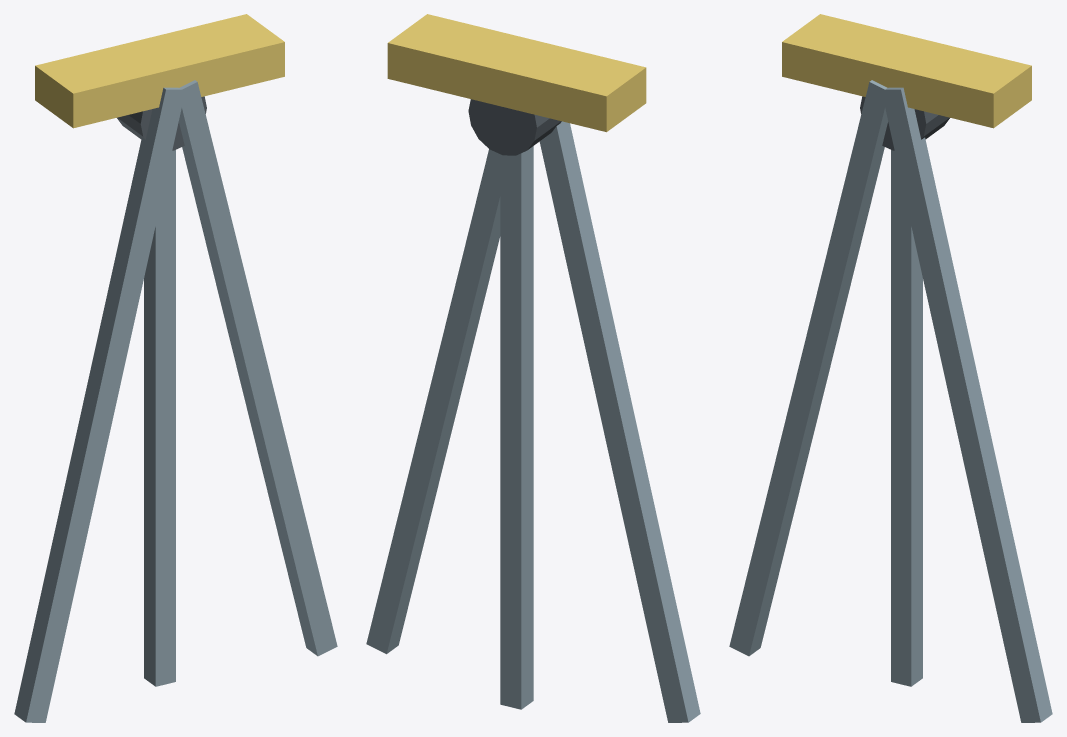
File: tripod_lod1.glb
3 renders of one model, left to right at view 1: azimuth 30°, elevation 25°; view 2: azimuth 150°, elevation 25°; view 3: azimuth 330°, elevation 25°, orthographic. The views are drawn at different scales.
Visible parts, largest first — view 1: part_1, part_2, part_0, part_3, part_4; view 2: part_1, part_3, part_0, part_2, part_4; view 3: part_2, part_1, part_0, part_3, part_4.
Part boxes in pixels (left/top/right/bottom): part_1: left=14, top=87, right=185, bottom=722; part_2: left=178, top=80, right=337, bottom=656; part_0: left=35, top=14, right=284, bottom=128; part_3: left=144, top=150, right=175, bottom=686; part_4: left=117, top=96, right=206, bottom=150; part_1: left=539, top=121, right=700, bottom=722; part_3: left=500, top=146, right=533, bottom=709; part_0: left=387, top=14, right=646, bottom=132; part_2: left=366, top=149, right=500, bottom=654; part_4: left=468, top=99, right=561, bottom=155; part_2: left=884, top=87, right=1052, bottom=722; part_1: left=729, top=80, right=888, bottom=656; part_0: left=782, top=14, right=1031, bottom=128; part_3: left=891, top=150, right=922, bottom=686; part_4: left=860, top=96, right=949, bottom=150.
Bounding box in the file's own units: 1.69 × 3.25 × 0.385.
